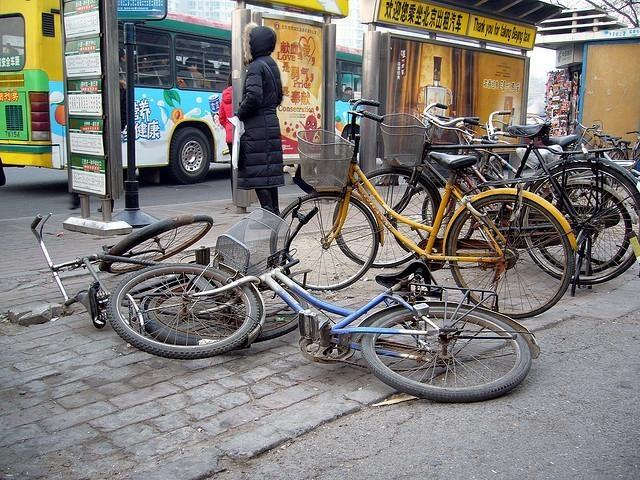bicycle: (118, 202, 524, 394), (278, 102, 576, 313), (371, 102, 640, 292), (33, 214, 267, 362), (474, 110, 578, 147), (608, 131, 640, 164), (573, 118, 603, 150), (587, 124, 623, 148)
bus: (0, 1, 362, 184)
